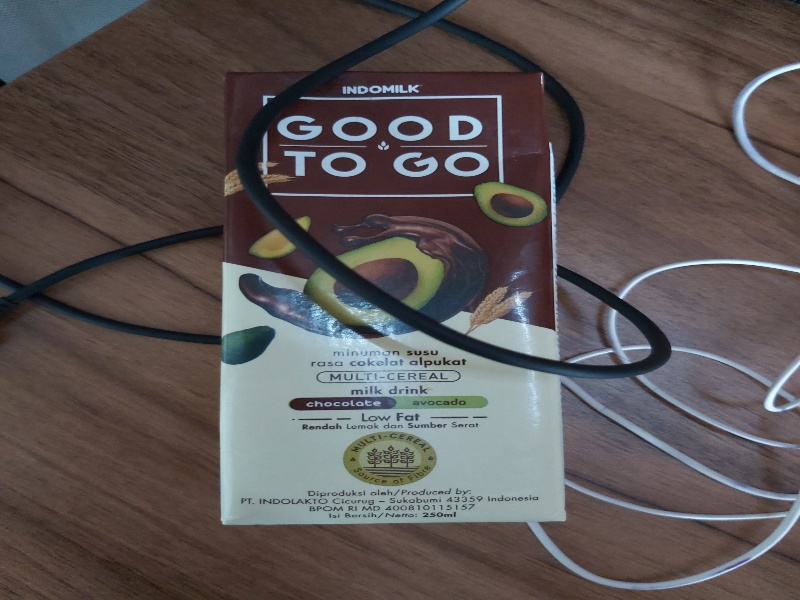cokelat: (216, 66, 574, 527)
